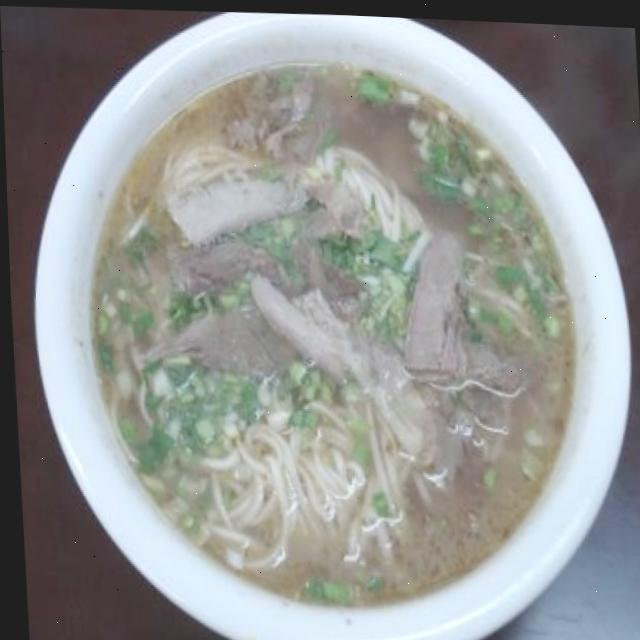面条主食: (31, 12, 634, 640)
